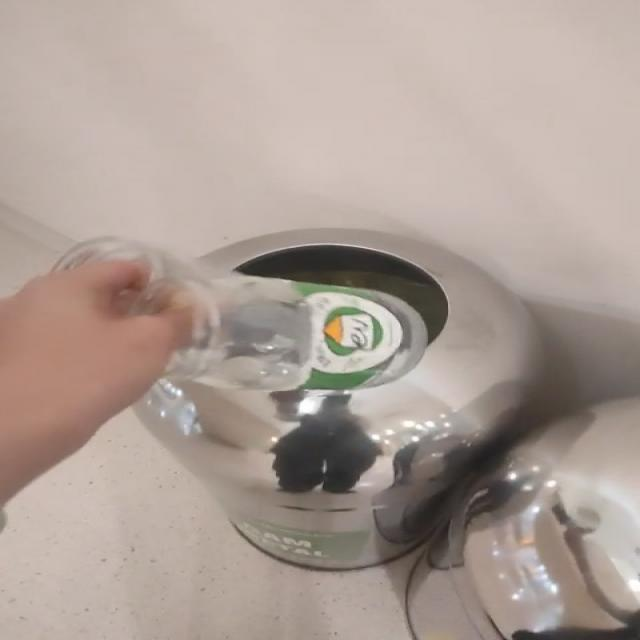glass: (54, 236, 429, 392)
